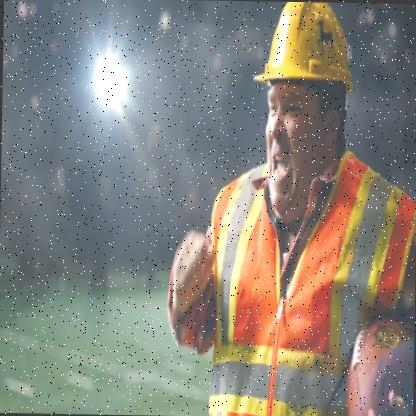capacete: (248, 1, 354, 224)
colete_refletivo: (203, 154, 415, 415)
